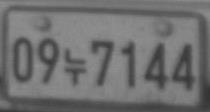0: (12, 36, 33, 81)
1: (118, 41, 142, 88)
4: (171, 43, 197, 91), (144, 43, 169, 89)
7: (90, 39, 113, 86)
9: (37, 37, 60, 83)
누: (63, 48, 87, 87)
